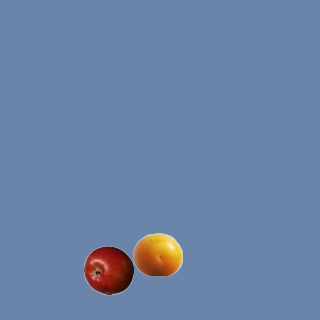Apple Braeburn: (83, 245, 133, 295)
Cherry Wax Yellow: (132, 229, 182, 279)
